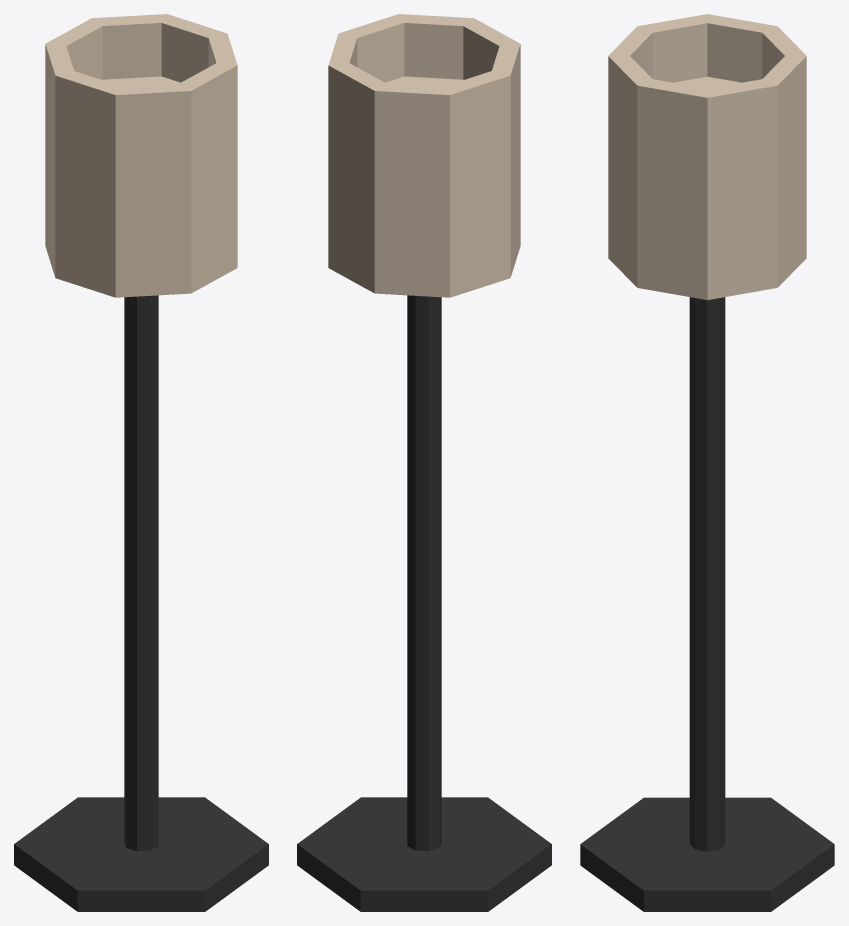
File: Cylinder Lamp.fbx
3 renders of one model, left to right at view 1: azimuth 30°, elevation 25°; view 2: azimuth 150°, elevation 25°; view 3: azimuth 270°, elevation 25°, orthographic.
Parts seen in each view (by area): view 1: Cylinder Lamp; view 2: Cylinder Lamp; view 3: Cylinder Lamp.
Part boxes in pixels (bbox=[...]): Cylinder Lamp: bbox=[14, 14, 268, 911]; Cylinder Lamp: bbox=[297, 14, 551, 911]; Cylinder Lamp: bbox=[580, 14, 834, 911].
Bounding box in the file's own units: 0.3647 × 1.48 × 0.4211.
